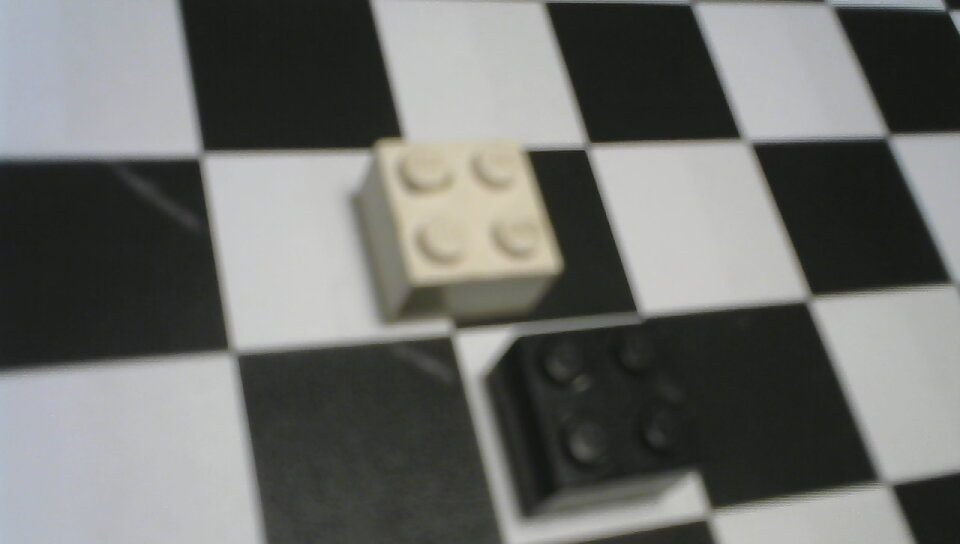wp: (351, 128, 568, 327)
